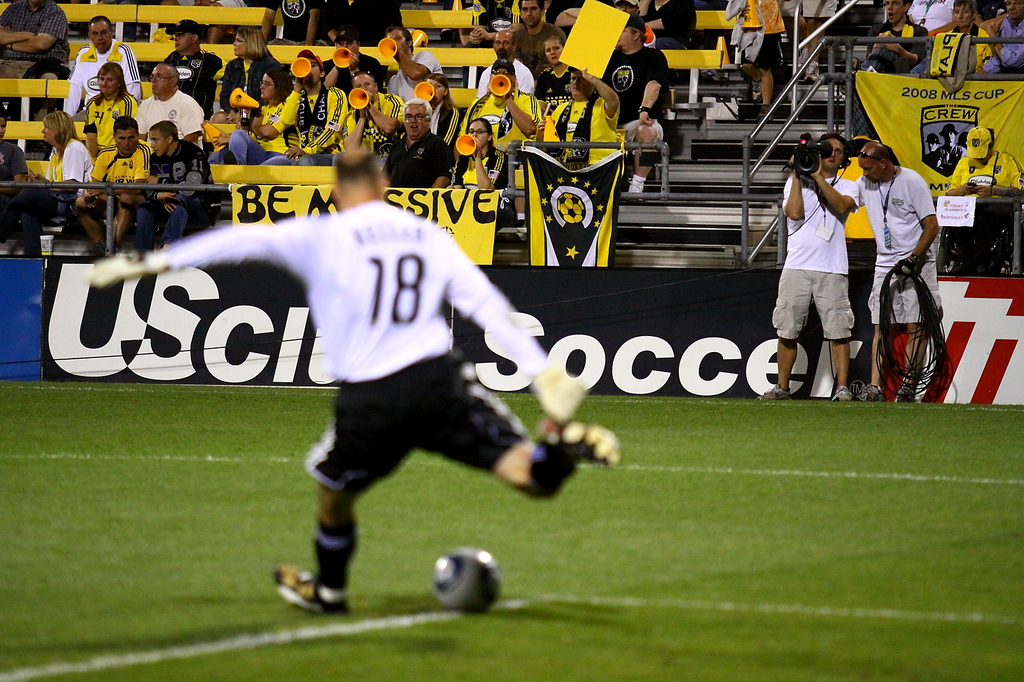Person: (0, 0, 1024, 255)
